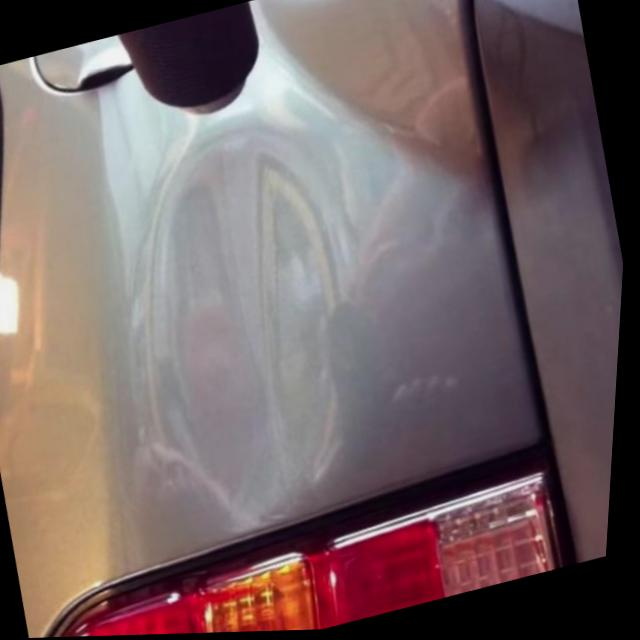Dent: (132, 112, 370, 523)
